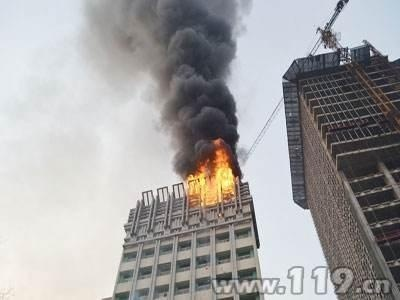fire: (184, 139, 236, 205)
